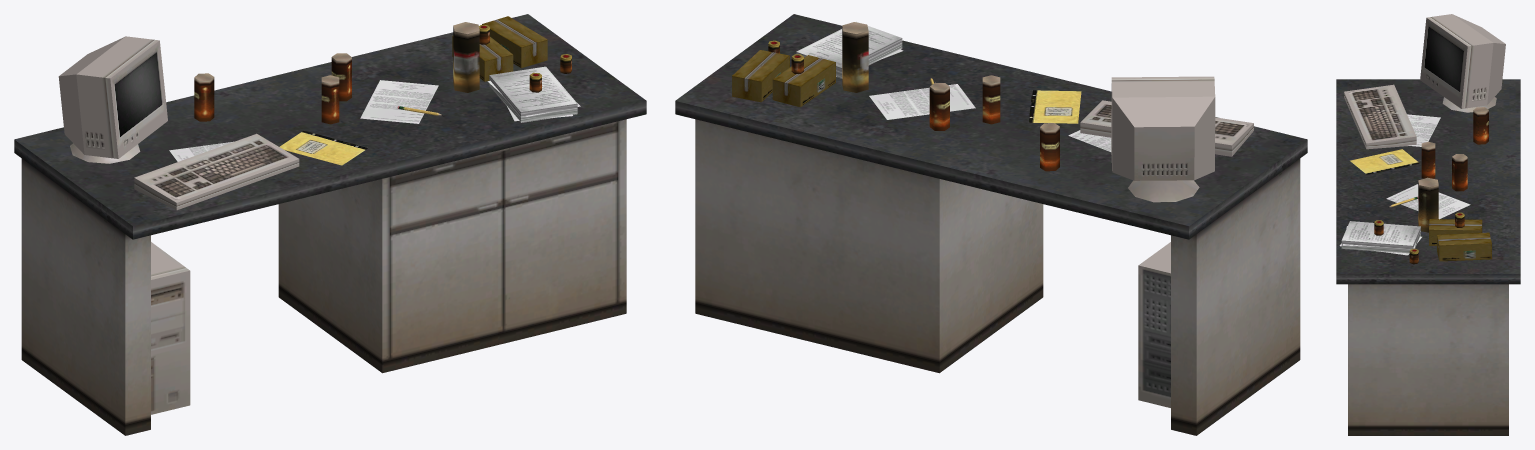
The model's file is labdesk1.fbx.
3 renders of one model, left to right at view 1: azimuth 30°, elevation 25°; view 2: azimuth 150°, elevation 25°; view 3: azimuth 270°, elevation 25°, orthographic. The views are drawn at different scales.
Visible parts, largest first — view 1: mesh_0; view 2: mesh_0; view 3: mesh_0.
Boxes of the visible parts, left/top/right/bottom form: mesh_0: left=14, top=14, right=646, bottom=435; mesh_0: left=675, top=14, right=1307, bottom=435; mesh_0: left=1336, top=14, right=1520, bottom=435.
Size of the model in its own units: 200 by 116 by 80.
1 material, 1 textured.
